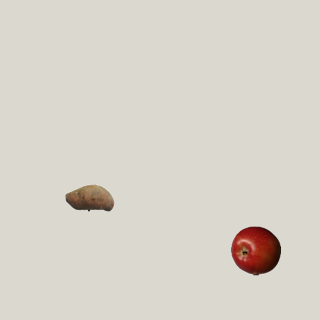Apple Braeburn: (230, 225, 280, 275)
Potato Sweet: (64, 172, 114, 222)
